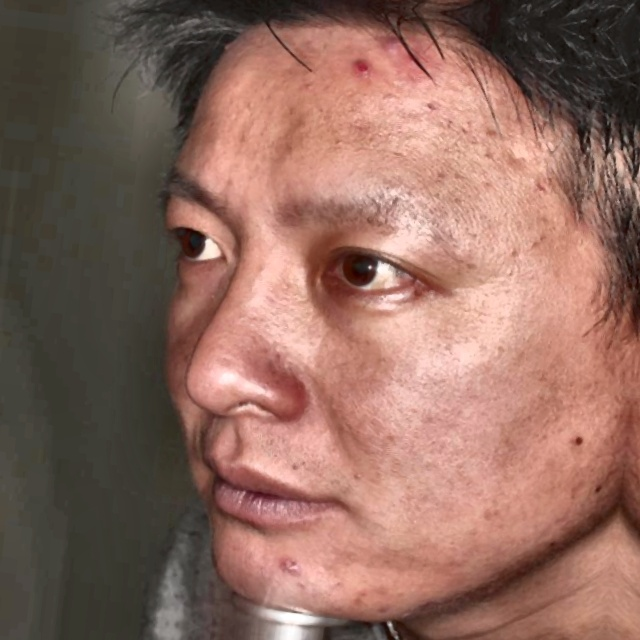comedone: (373, 30, 441, 83), (342, 49, 373, 89), (279, 550, 307, 583)
